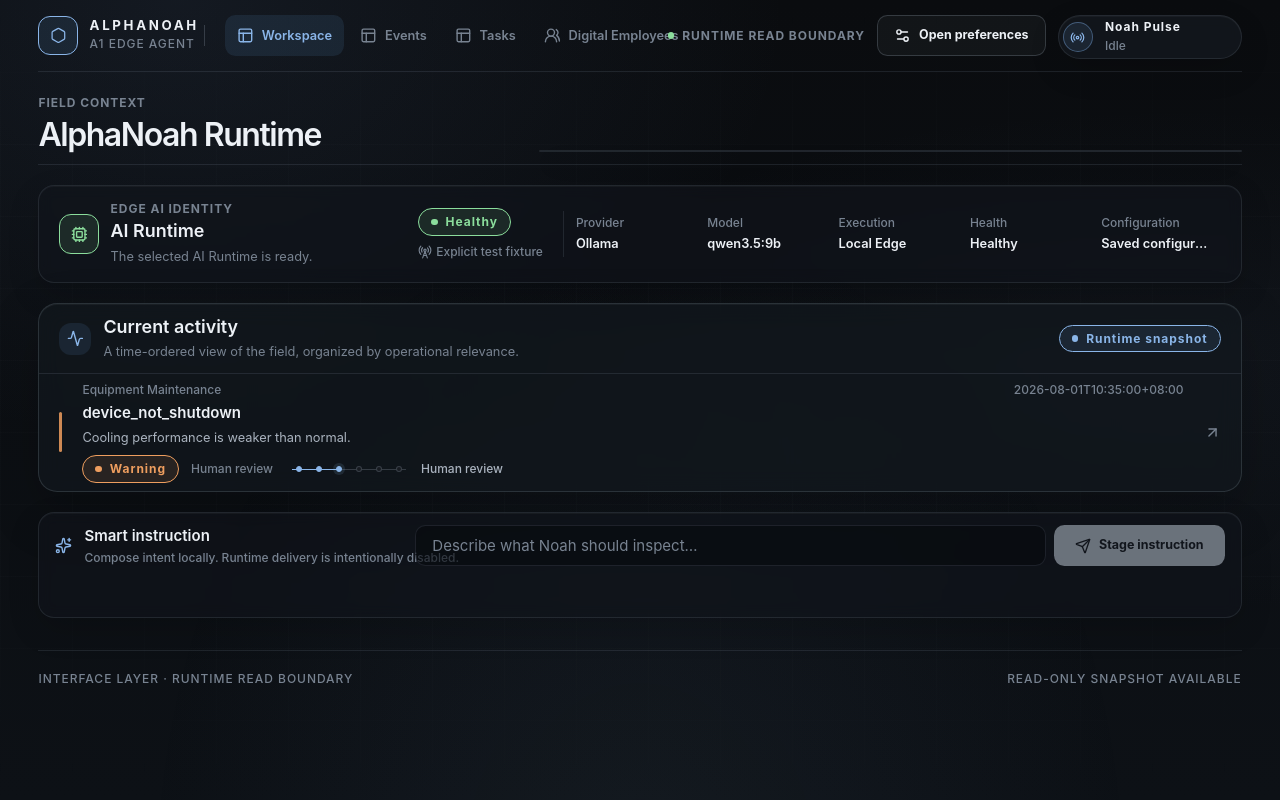
Scenario: F04-B Human Review interaction › records rejection and shows that no action executed
The image size is (1280, 800).
Click the button "device_not_shutdown".
click(152, 390)  # box [39, 374, 1241, 491]
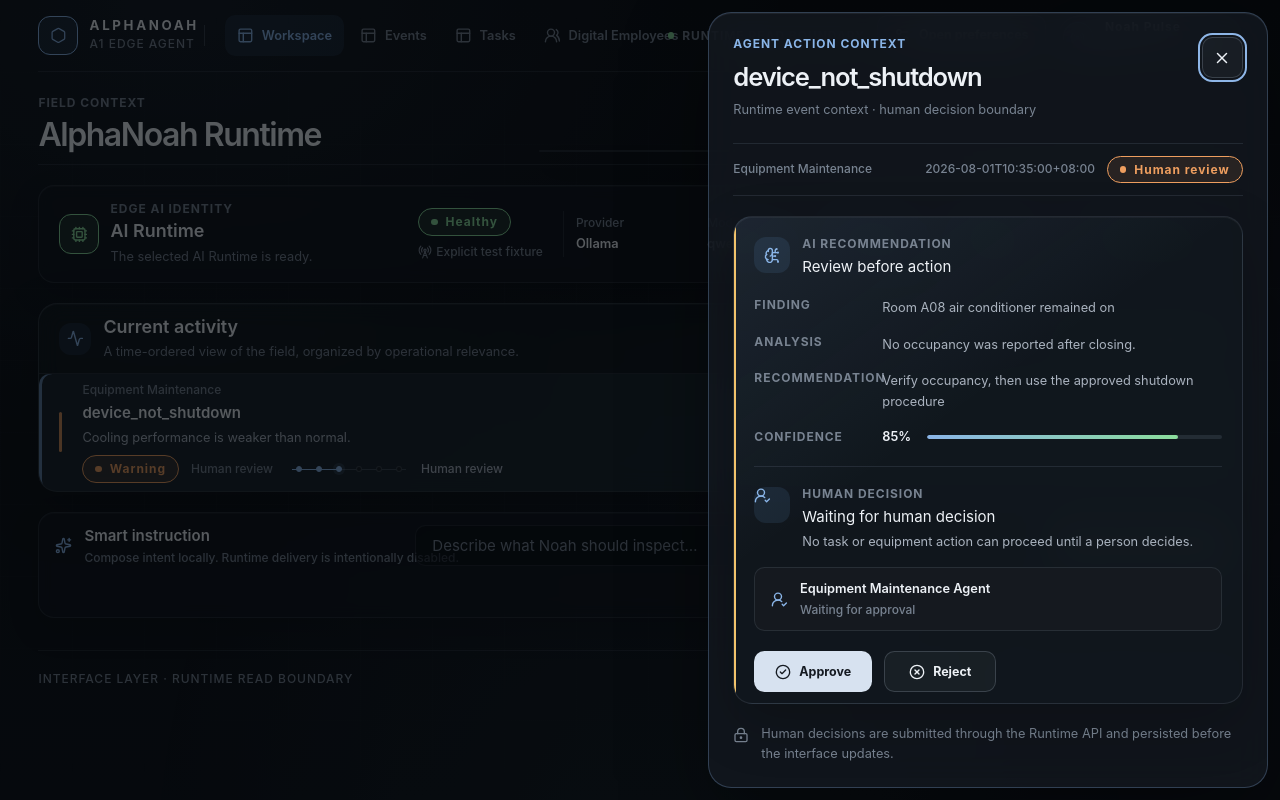
Click the button "Reject".
click(940, 672)  # box [884, 651, 996, 692]
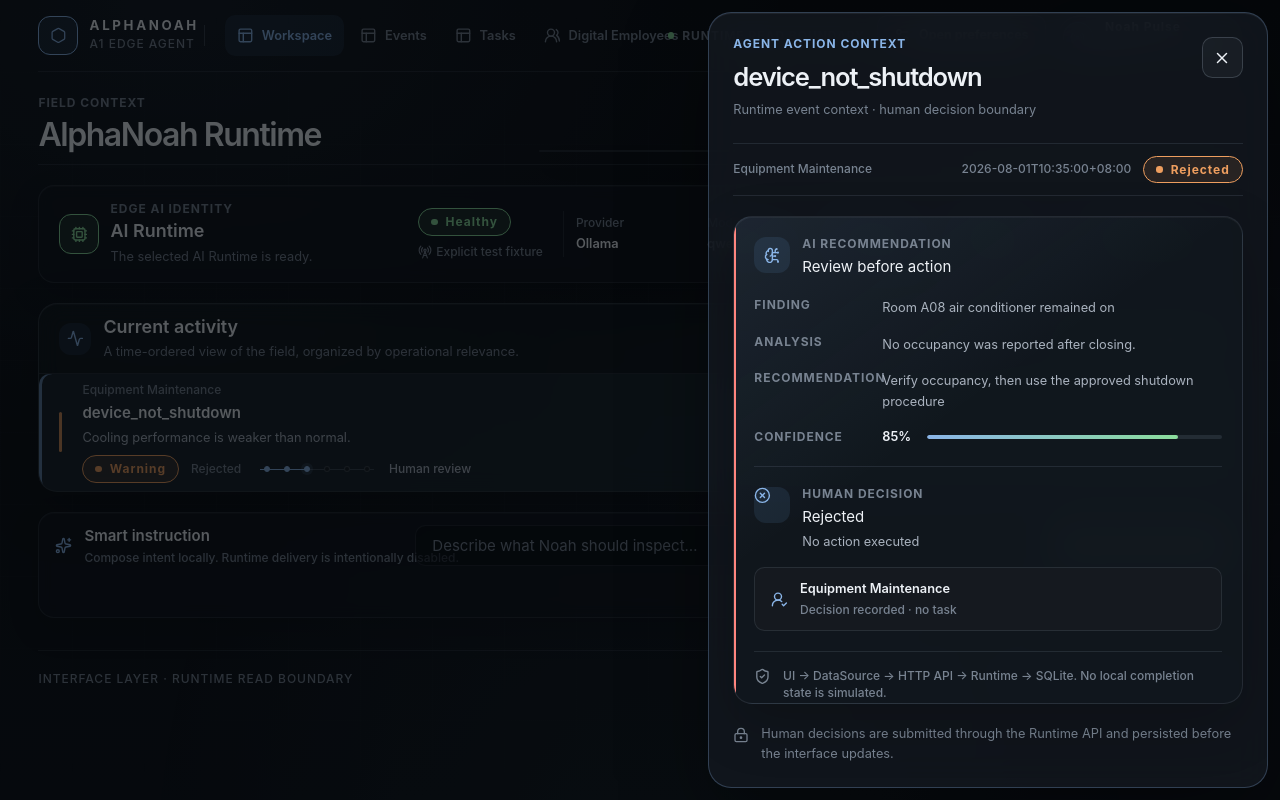
Expected: the text "No action executed" is shown, [802, 532, 923, 551]
